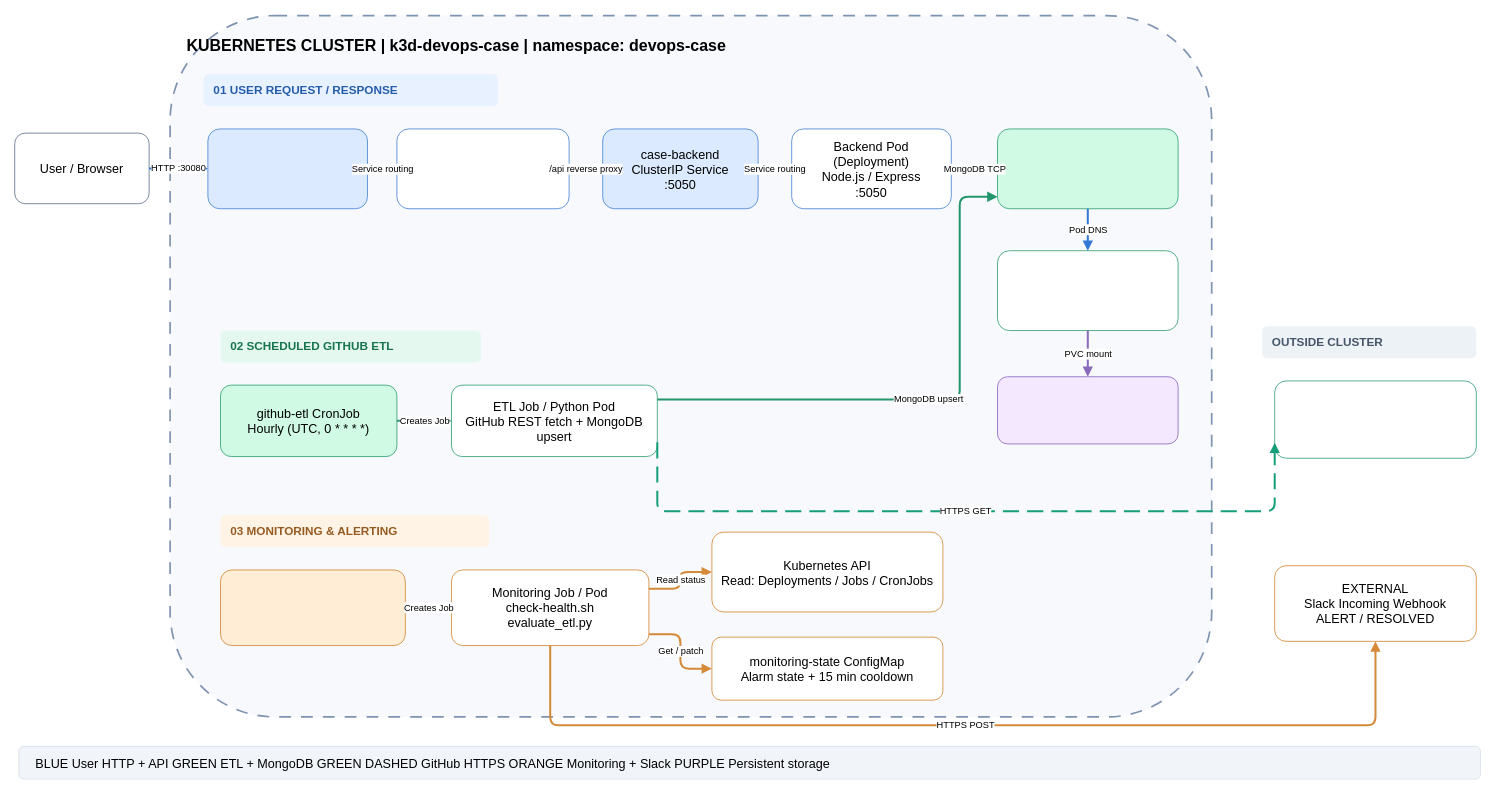
Image size: 1495x794. Some labels were removed from this diagram. The shapes that lost their labels are listed below. From the top down, each one's box as (x1, y1, x2, y2) in pixels, then its label:
(207, 128, 368, 209): frontend NodePort Service :30080 → :8080
(396, 128, 569, 209): Frontend Pod (Deployment) Nginx :8080 React + /api reverse proxy
(997, 128, 1178, 209): mongodb-service Headless Service :27017
(997, 250, 1178, 331): MongoDB StatefulSet Pod: mongodb-0 sample_training / github_etl
(997, 376, 1178, 444): PersistentVolumeClaim 2 Gi / mongo-data
(1274, 380, 1476, 458): EXTERNAL GitHub REST API HTTPS
(220, 569, 405, 646): monitoring-check CronJob Every minute (* * * * *)
